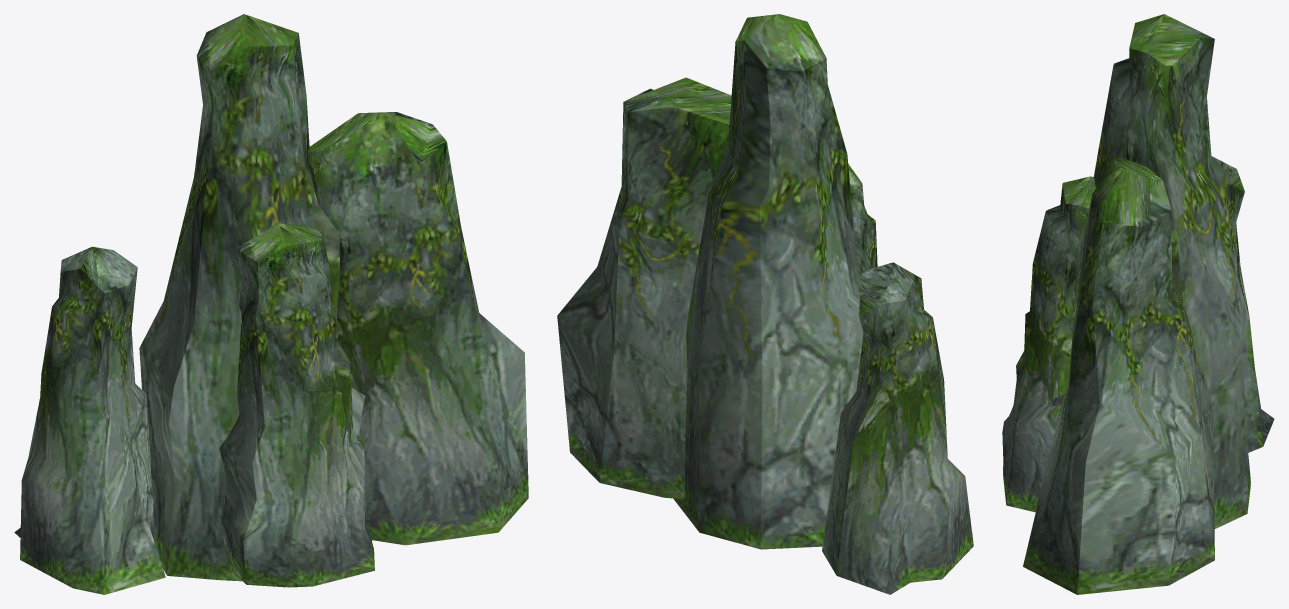
The model's file is environment_stone_zhucheng_001_b.FBX.
3 views of the same model, side by side, from view 1: azimuth 30°, elevation 25°; view 2: azimuth 150°, elevation 25°; view 3: azimuth 270°, elevation 25° (orthographic). The views are drawn at different scales.
Parts seen in each view (by area): view 1: environment_stone_zhucheng_001_b; view 2: environment_stone_zhucheng_001_b; view 3: environment_stone_zhucheng_001_b.
Part boxes in pixels (<box>): environment_stone_zhucheng_001_b: <box>14,14,528,594</box>; environment_stone_zhucheng_001_b: <box>557,14,973,594</box>; environment_stone_zhucheng_001_b: <box>1002,14,1274,594</box>.
Bounding box in the file's own units: 926 × 1046 × 533.
1 material, 1 textured.
